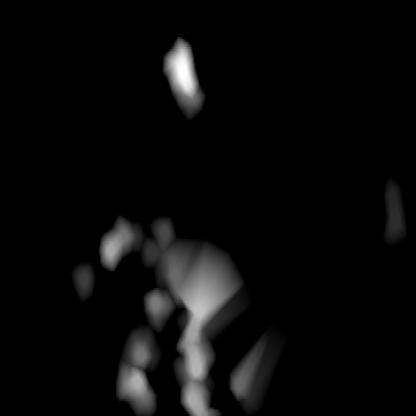fingers: (163, 34, 202, 108)
palm: (75, 214, 154, 409), (116, 324, 269, 414)
thumb: (152, 212, 242, 318)
